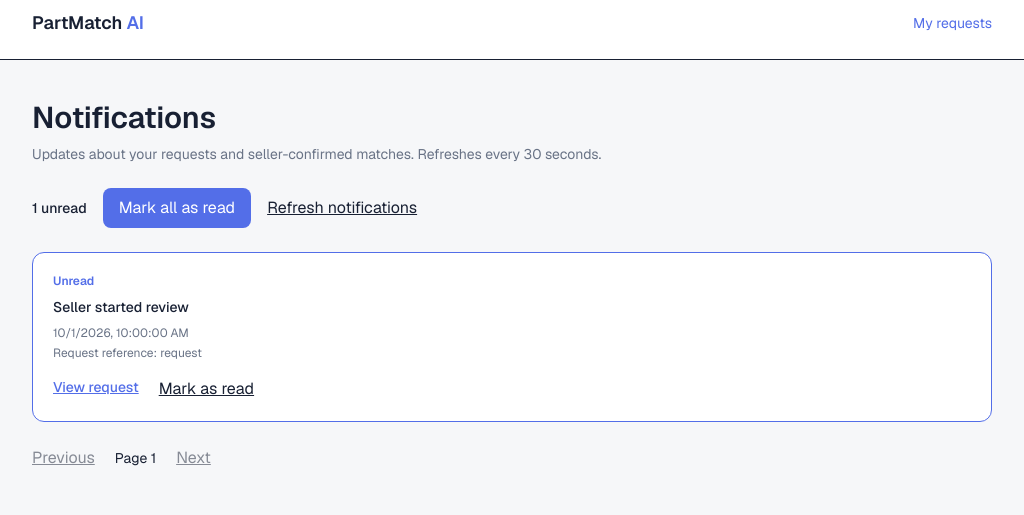
Scenario: marks an individual notification read and updates the unread count
Expected: the text "1 unread" is shown, [32, 198, 87, 218]
Step 1. Click the button "Mark as read" → (206, 389), box [159, 377, 254, 401]
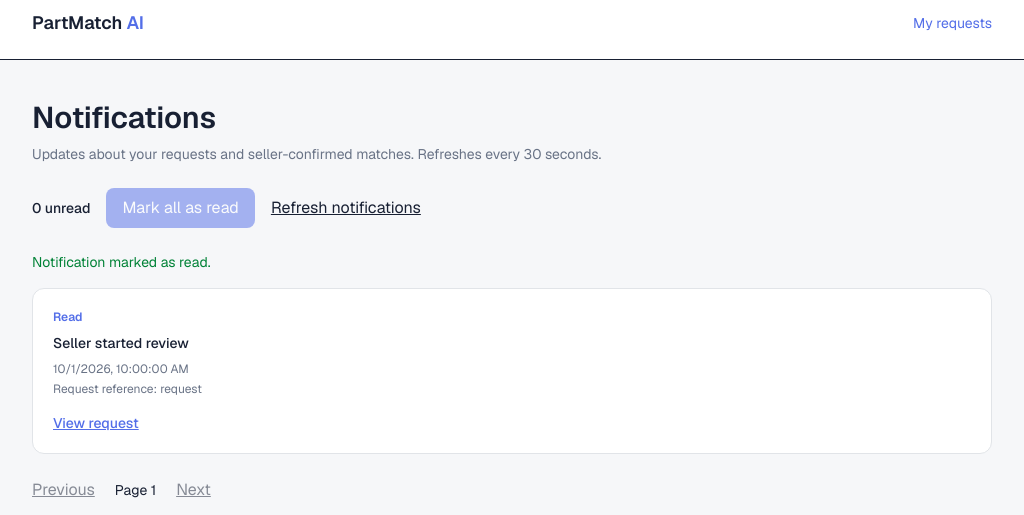
Result: the text "0 unread" is shown at [32, 198, 90, 218]
Result: the button "Mark as read" is gone
